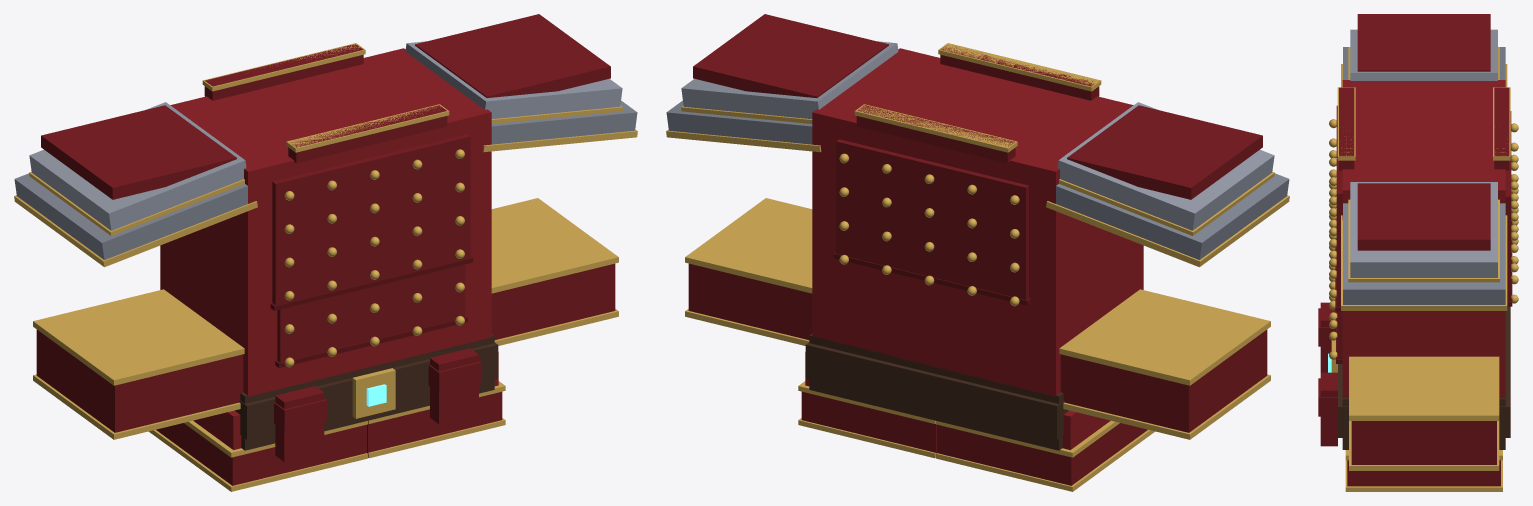
3 renders of one model, left to right at view 1: azimuth 30°, elevation 25°; view 2: azimuth 150°, elevation 25°; view 3: azimuth 270°, elevation 25°, orthographic. The views are drawn at different scales.
Parts seen in each view (by area): view 1: scout-brigandine; view 2: scout-brigandine; view 3: scout-brigandine.
Boxes of the visible parts, x1,y1,x2,y2 form: scout-brigandine: [14, 14, 637, 491]; scout-brigandine: [666, 14, 1289, 491]; scout-brigandine: [1318, 14, 1518, 491].
Size of the model in its own units: 1.21 by 0.7161 by 0.4227.
